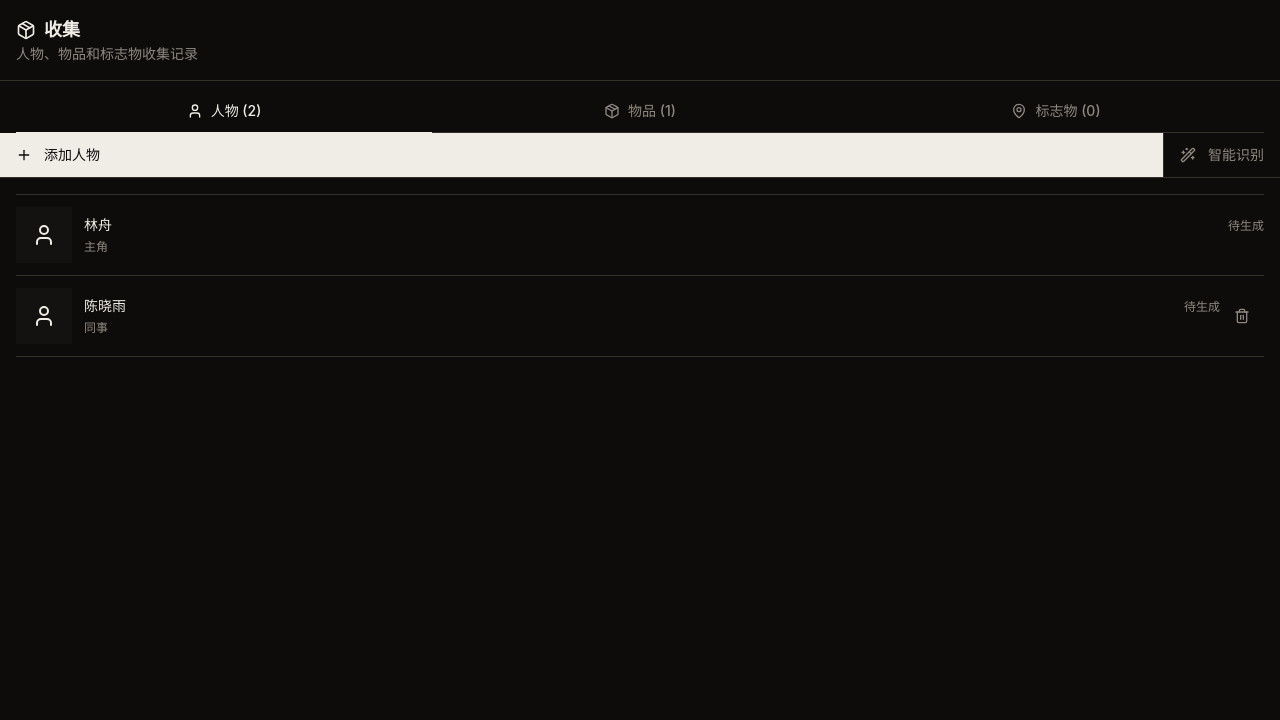
Test case: CollectionPanel action contracts › blocks the name 档案/A because it cannot round-trip through deletion routes
The width and height of the screenshot is (1280, 720).
Click the button "添加人物" at (72, 154), box 0,133 -> 1163,177
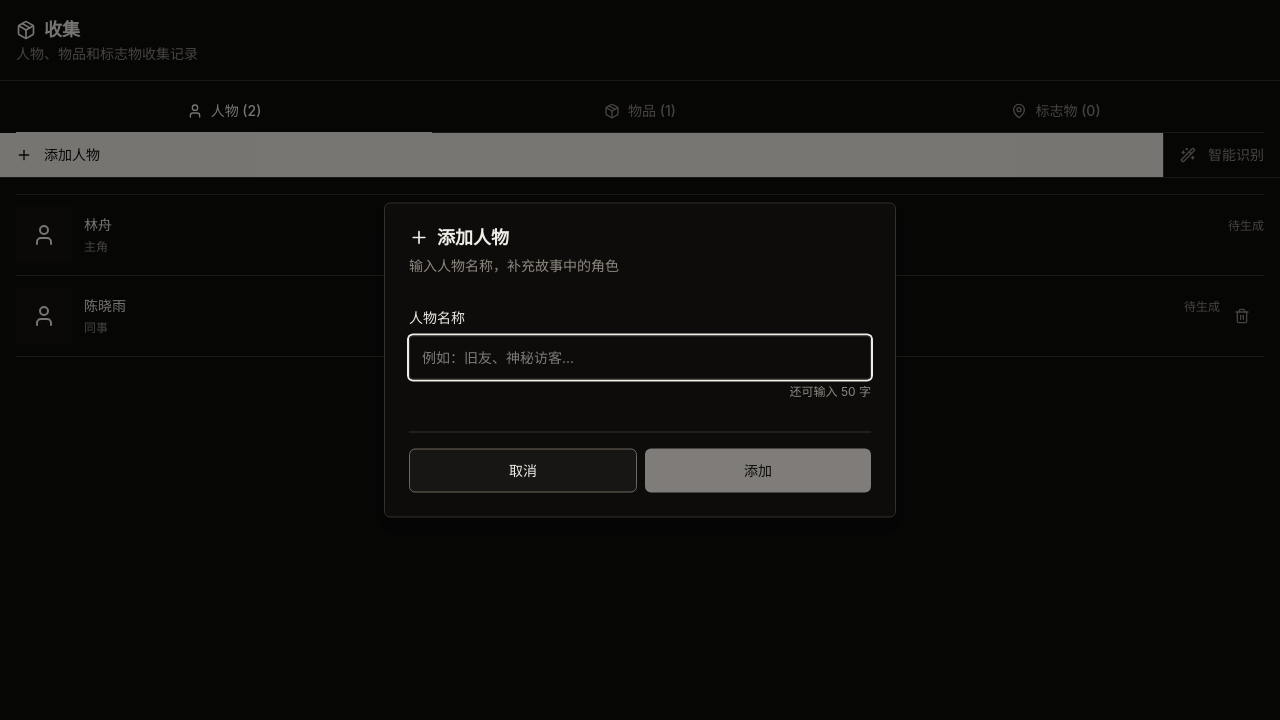
Type "档案/A" into the field labelled "人物名称" at (640, 358), box 409,336 -> 871,380
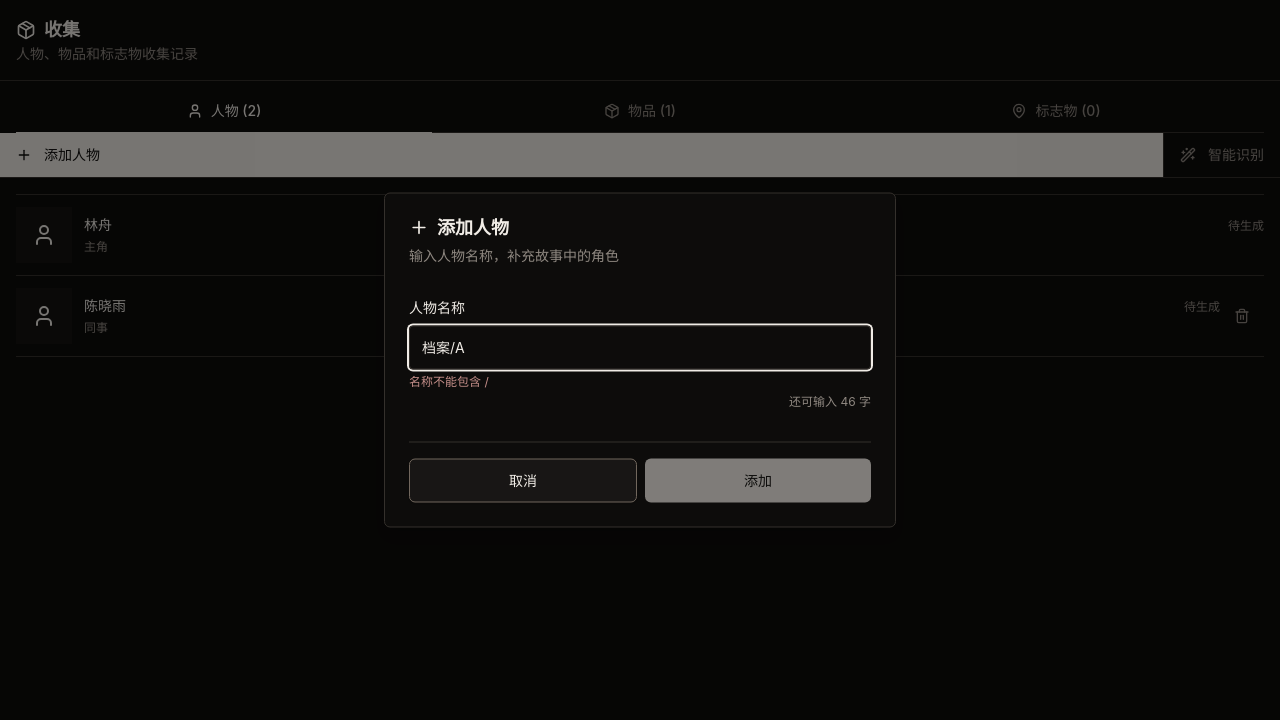
Expected: the button "添加" is disabled, 645,458 -> 871,502
Expected: the text "名称不能包含 /" is shown, 409,374 -> 489,388
